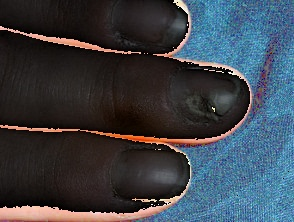Nail_psoriasis: (97, 0, 199, 69), (168, 88, 245, 129)
